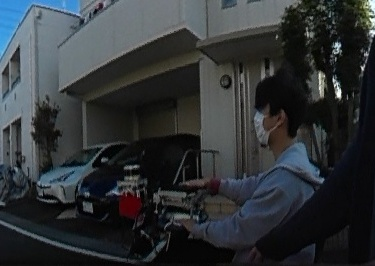person: (212, 71, 321, 266)
